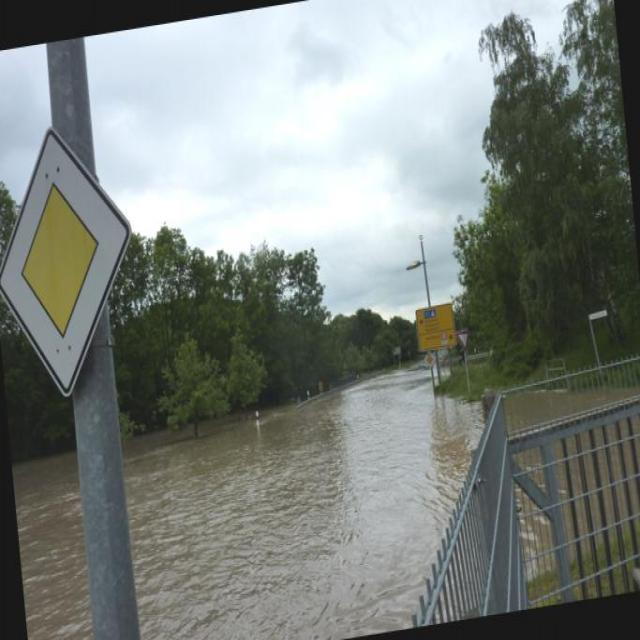flood: (8, 349, 500, 639)
